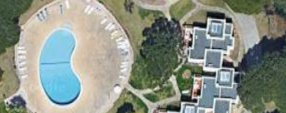pool: (42, 32, 80, 102)
